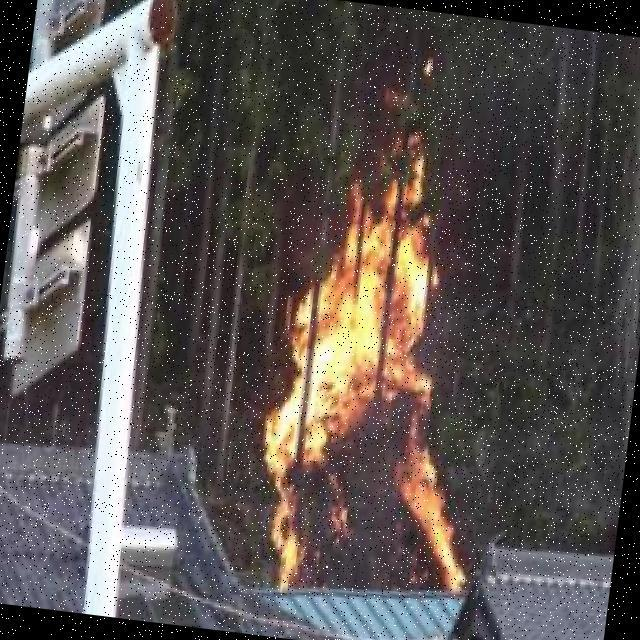Fire: (246, 103, 503, 612)
